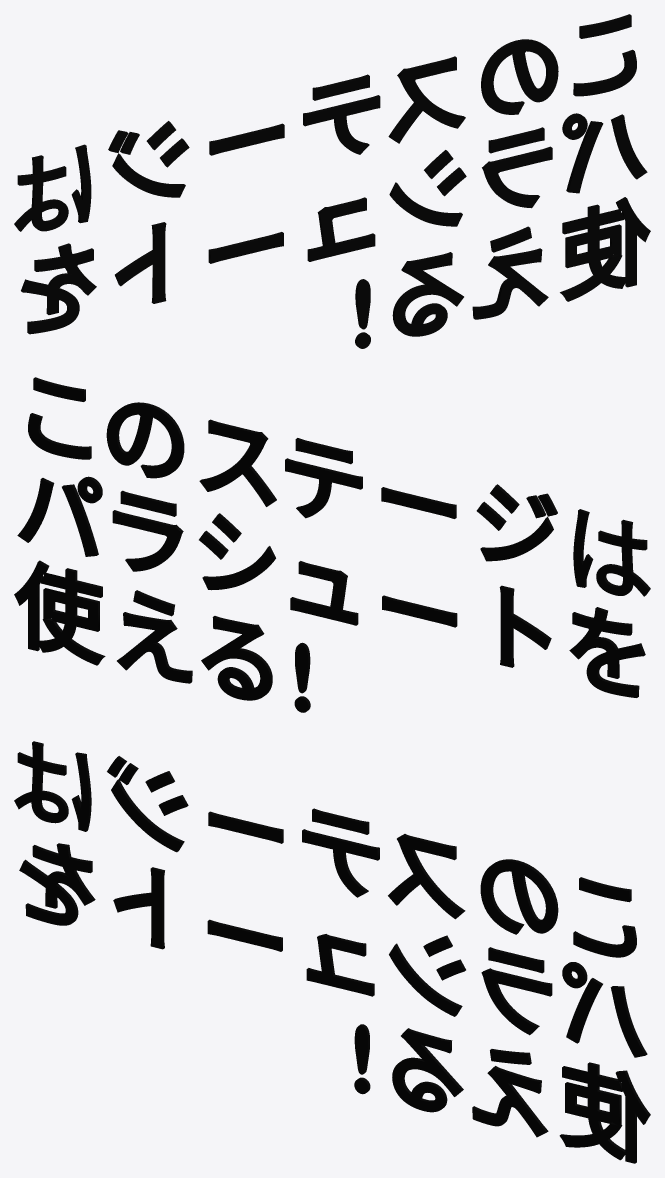
Rendered from paratext.obj.
3 views of the same model, one above another, from view 1: azimuth 30°, elevation 25°; view 2: azimuth 150°, elevation 25°; view 3: azimuth 330°, elevation 25° (orthographic).
Visible parts, largest first — view 1: Text.014, Text.013, Text.001, Text.018, Text.016, Text.015, Text.008, Text.007, Text.003, Text.005, Text.002, Text.010 (+6 smaller); view 2: Text.014, Text.013, Text.001, Text.018, Text.016, Text.015, Text.008, Text.007, Text.003, Text.005, Text.002, Text.010 (+6 smaller); view 3: Text.014, Text.013, Text.001, Text.016, Text.018, Text.015, Text.008, Text.003, Text.007, Text.005, Text.002, Text.009 (+6 smaller).
Boxes of the visible parts, left/top/right/bottom form: Text.014: left=560, top=197, right=650, bottom=301; Text.013: left=21, top=243, right=96, bottom=334; Text.001: left=481, top=39, right=558, bottom=114; Text.018: left=14, top=144, right=91, bottom=231; Text.016: left=392, top=252, right=463, bottom=336; Text.015: left=472, top=226, right=548, bottom=319; Text.008: left=482, top=127, right=552, bottom=208; Text.007: left=562, top=113, right=647, bottom=193; Text.003: left=303, top=74, right=380, bottom=154; Text.005: left=108, top=121, right=189, bottom=197; Text.002: left=388, top=56, right=465, bottom=143; Text.010: left=307, top=197, right=375, bottom=261; Text.014: left=14, top=560, right=105, bottom=665; Text.013: left=569, top=607, right=645, bottom=697; Text.001: left=106, top=402, right=184, bottom=478; Text.018: left=573, top=509, right=650, bottom=596; Text.016: left=201, top=616, right=272, bottom=700; Text.015: left=117, top=590, right=192, bottom=683; Text.008: left=112, top=490, right=183, bottom=571; Text.007: left=17, top=476, right=102, bottom=556; Text.003: left=285, top=438, right=362, bottom=518; Text.005: left=476, top=484, right=557, bottom=561; Text.002: left=199, top=419, right=276, bottom=506; Text.010: left=290, top=561, right=358, bottom=625; Text.014: left=559, top=1062, right=650, bottom=1163; Text.013: left=19, top=843, right=95, bottom=925; Text.001: left=480, top=859, right=558, bottom=934; Text.016: left=392, top=1028, right=463, bottom=1112; Text.018: left=14, top=741, right=91, bottom=831; Text.015: left=472, top=1049, right=548, bottom=1137; Text.008: left=481, top=947, right=552, bottom=1035; Text.003: left=302, top=808, right=379, bottom=897; Text.007: left=562, top=962, right=647, bottom=1057; Text.005: left=107, top=756, right=188, bottom=852; Text.002: left=388, top=834, right=465, bottom=919; Text.009: left=389, top=935, right=465, bottom=1016.
Size of the model in its own units: 7.22 by 3.05 by 0.055.
